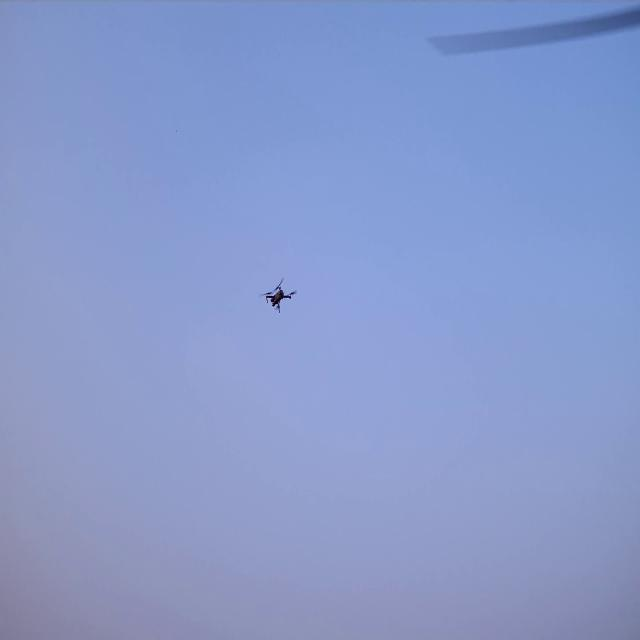UAV: (265, 284, 293, 312)
